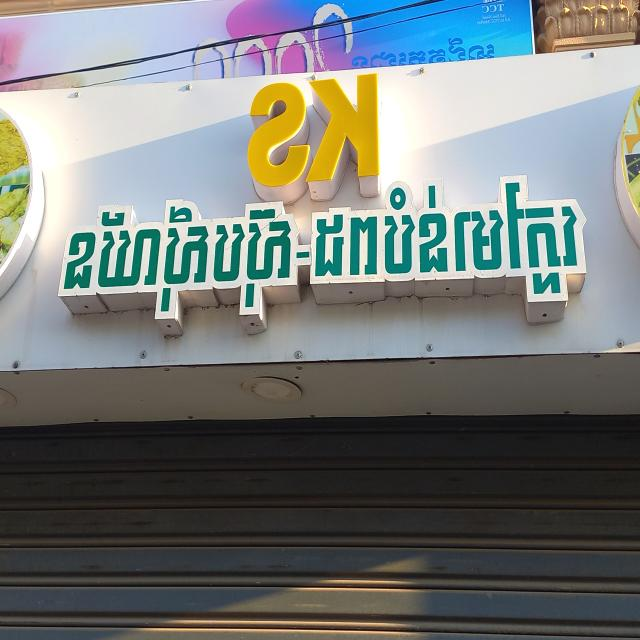Yolov11kh: (55, 170, 591, 333)
